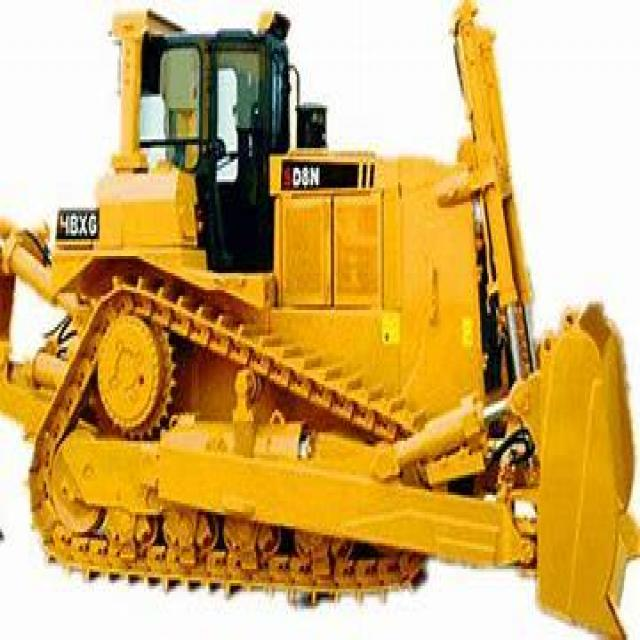Bulldozer: (2, 6, 638, 637)
